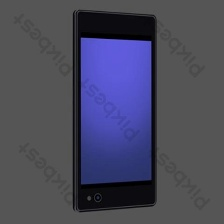phone: (69, 7, 160, 215)
